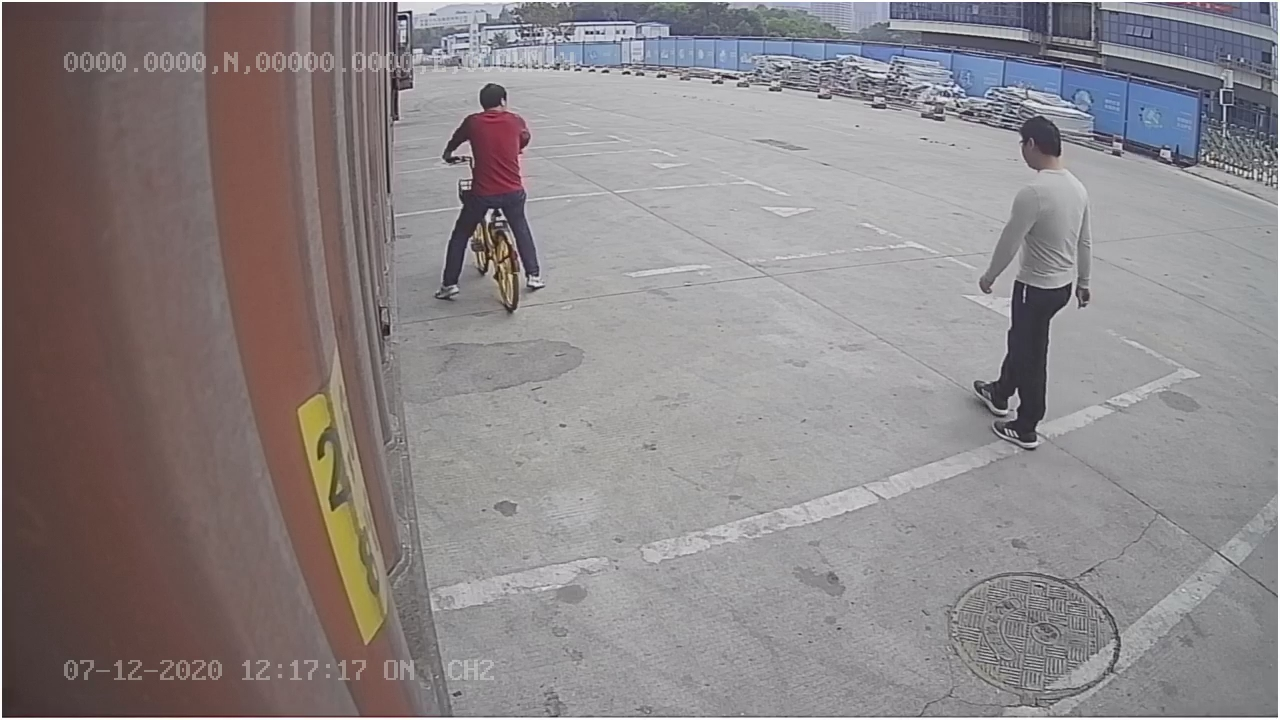person: (971, 114, 1096, 450)
